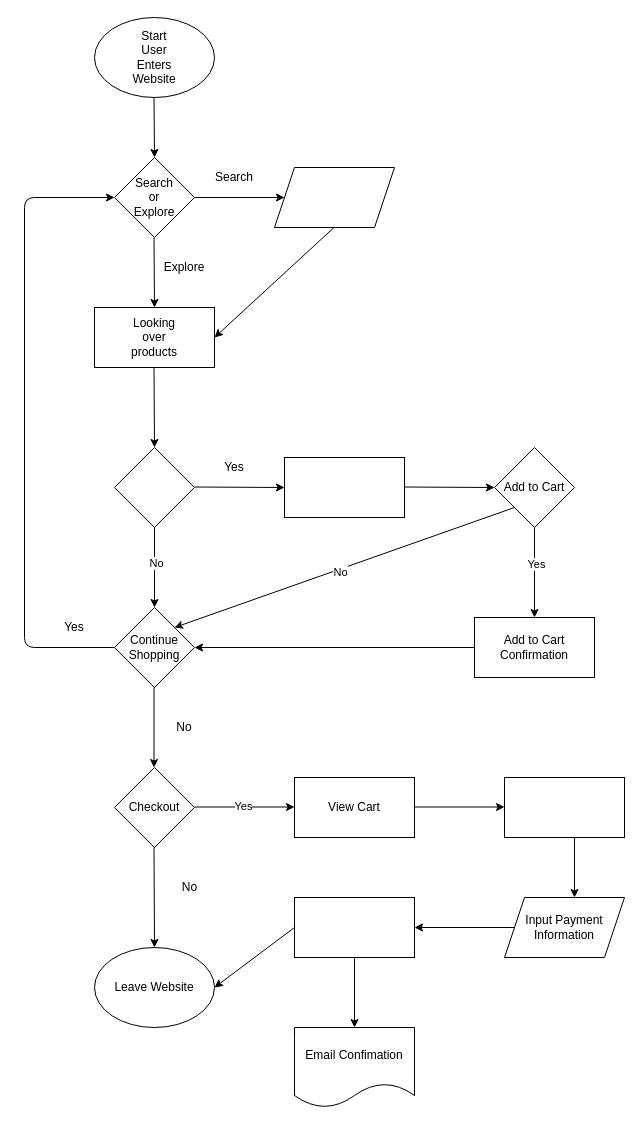
This 642x1125 diagram has some shape labels left out. Here are the shapes that lost their labels. From the top down, the box of each, then its label:
(274, 166, 394, 228): Input to website of search
(114, 446, 194, 528): View specific product
(284, 456, 404, 518): Open Webpage
(504, 776, 624, 838): View Payment
(294, 896, 414, 958): Order Confirmation
